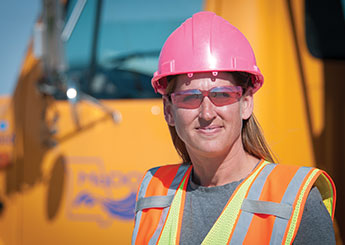epi: (136, 11, 345, 243)
